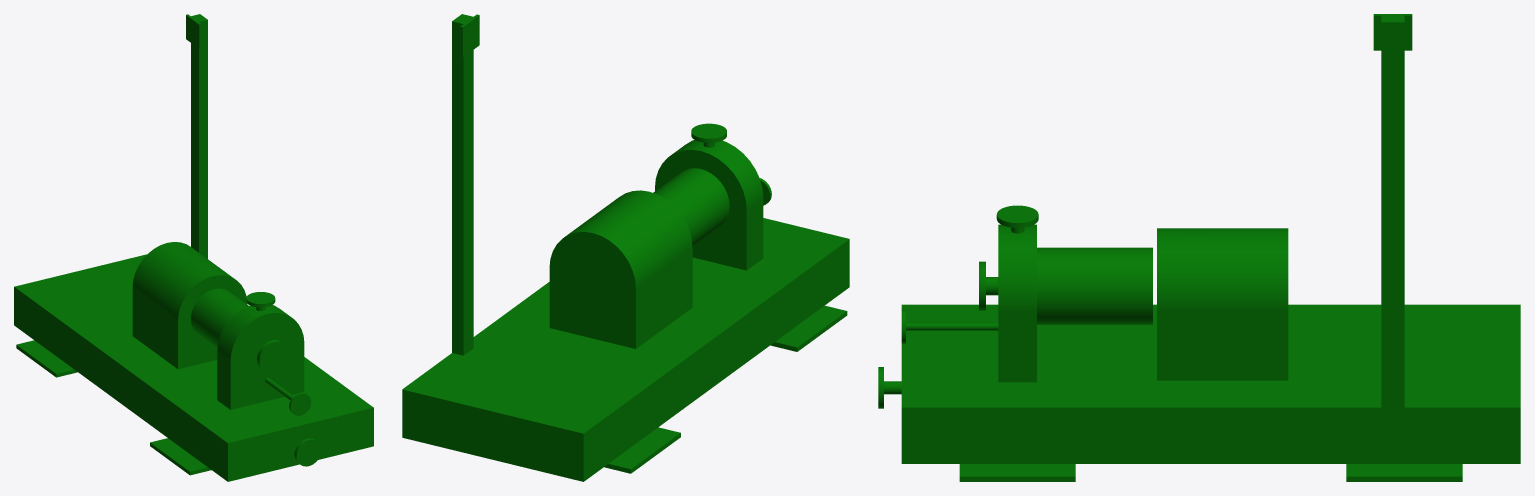
The model's file is Image-1710907682250-2280643447040_53-PA50A.fbx.
3 views of the same model, side by side, from view 1: azimuth 30°, elevation 25°; view 2: azimuth 150°, elevation 25°; view 3: azimuth 270°, elevation 25° (orthographic). The views are drawn at different scales.
Parts seen in each view (by area): view 1: BOX 1 of SUBEQUIPMENT /53-PA50/A/PRIM, CYLINDER 3 of SUBEQUIPMENT /53-PA50/A/PRIM, CYLINDER 1 of SUBEQUIPMENT /53-PA50/A/PRIM, BOX 6 of SUBEQUIPMENT /53-PA50/A/PRIM, BOX 9 of SUBEQUIPMENT /53-PA50/A/PRIM, BOX 8 of SUBEQUIPMENT /53-PA50/A/PRIM, CYLINDER 2 of SUBEQUIPMENT /53-PA50/A/PRIM, BOX 5 of SUBEQUIPMENT /53-PA50/A/PRIM, BOX 2 of SUBEQUIPMENT /53-PA50/A/PRIM, /53-PA50/A/N1, /53-PA50/A/N4, /53-PA50/A/N3 (+2 smaller); view 2: BOX 1 of SUBEQUIPMENT /53-PA50/A/PRIM, CYLINDER 3 of SUBEQUIPMENT /53-PA50/A/PRIM, BOX 9 of SUBEQUIPMENT /53-PA50/A/PRIM, BOX 6 of SUBEQUIPMENT /53-PA50/A/PRIM, CYLINDER 1 of SUBEQUIPMENT /53-PA50/A/PRIM, CYLINDER 2 of SUBEQUIPMENT /53-PA50/A/PRIM, BOX 8 of SUBEQUIPMENT /53-PA50/A/PRIM, BOX 2 of SUBEQUIPMENT /53-PA50/A/PRIM, BOX 5 of SUBEQUIPMENT /53-PA50/A/PRIM, BOX 7 of SUBEQUIPMENT /53-PA50/A/PRIM, /53-PA50/A/N2; view 3: BOX 1 of SUBEQUIPMENT /53-PA50/A/PRIM, CYLINDER 3 of SUBEQUIPMENT /53-PA50/A/PRIM, BOX 6 of SUBEQUIPMENT /53-PA50/A/PRIM, BOX 9 of SUBEQUIPMENT /53-PA50/A/PRIM, CYLINDER 2 of SUBEQUIPMENT /53-PA50/A/PRIM, CYLINDER 1 of SUBEQUIPMENT /53-PA50/A/PRIM, BOX 8 of SUBEQUIPMENT /53-PA50/A/PRIM, BOX 3 of SUBEQUIPMENT /53-PA50/A/PRIM, BOX 4 of SUBEQUIPMENT /53-PA50/A/PRIM, /53-PA50/A/N3, /53-PA50/A/N2, BOX 7 of SUBEQUIPMENT /53-PA50/A/PRIM.
Boxes of the visible parts, x1,y1,x2,y2 form: BOX 1 of SUBEQUIPMENT /53-PA50/A/PRIM: (14,254,373,481); CYLINDER 3 of SUBEQUIPMENT /53-PA50/A/PRIM: (132,242,247,348); CYLINDER 1 of SUBEQUIPMENT /53-PA50/A/PRIM: (217,305,304,391); BOX 6 of SUBEQUIPMENT /53-PA50/A/PRIM: (191,14,207,258); BOX 9 of SUBEQUIPMENT /53-PA50/A/PRIM: (132,288,217,369); BOX 8 of SUBEQUIPMENT /53-PA50/A/PRIM: (217,344,304,409); CYLINDER 2 of SUBEQUIPMENT /53-PA50/A/PRIM: (191,288,248,348); BOX 5 of SUBEQUIPMENT /53-PA50/A/PRIM: (16,340,77,377); BOX 2 of SUBEQUIPMENT /53-PA50/A/PRIM: (150,438,211,475); /53-PA50/A/N1: (257,340,288,373); /53-PA50/A/N4: (294,438,321,466); /53-PA50/A/N3: (265,378,311,415); BOX 1 of SUBEQUIPMENT /53-PA50/A/PRIM: (402,218,849,481); CYLINDER 3 of SUBEQUIPMENT /53-PA50/A/PRIM: (549,190,692,324); BOX 9 of SUBEQUIPMENT /53-PA50/A/PRIM: (549,247,692,348); BOX 6 of SUBEQUIPMENT /53-PA50/A/PRIM: (452,14,473,355); CYLINDER 1 of SUBEQUIPMENT /53-PA50/A/PRIM: (655,140,763,248); CYLINDER 2 of SUBEQUIPMENT /53-PA50/A/PRIM: (653,168,729,246); BOX 8 of SUBEQUIPMENT /53-PA50/A/PRIM: (655,188,763,270); BOX 2 of SUBEQUIPMENT /53-PA50/A/PRIM: (770,305,847,351); BOX 5 of SUBEQUIPMENT /53-PA50/A/PRIM: (604,427,680,473); BOX 7 of SUBEQUIPMENT /53-PA50/A/PRIM: (460,14,479,57); /53-PA50/A/N2: (691,123,726,147); BOX 1 of SUBEQUIPMENT /53-PA50/A/PRIM: (901,304,1520,463); CYLINDER 3 of SUBEQUIPMENT /53-PA50/A/PRIM: (1157,228,1288,310); BOX 6 of SUBEQUIPMENT /53-PA50/A/PRIM: (1381,15,1404,407); BOX 9 of SUBEQUIPMENT /53-PA50/A/PRIM: (1157,310,1288,380); CYLINDER 2 of SUBEQUIPMENT /53-PA50/A/PRIM: (1037,247,1152,324); CYLINDER 1 of SUBEQUIPMENT /53-PA50/A/PRIM: (998,224,1036,312); BOX 8 of SUBEQUIPMENT /53-PA50/A/PRIM: (998,312,1036,382); BOX 3 of SUBEQUIPMENT /53-PA50/A/PRIM: (959,464,1075,481); BOX 4 of SUBEQUIPMENT /53-PA50/A/PRIM: (1346,464,1462,481); /53-PA50/A/N3: (901,309,998,343); /53-PA50/A/N2: (996,205,1038,233); BOX 7 of SUBEQUIPMENT /53-PA50/A/PRIM: (1373,14,1412,50).
Bounding box in the file's own units: 0.785 × 1.66 × 1.28.
